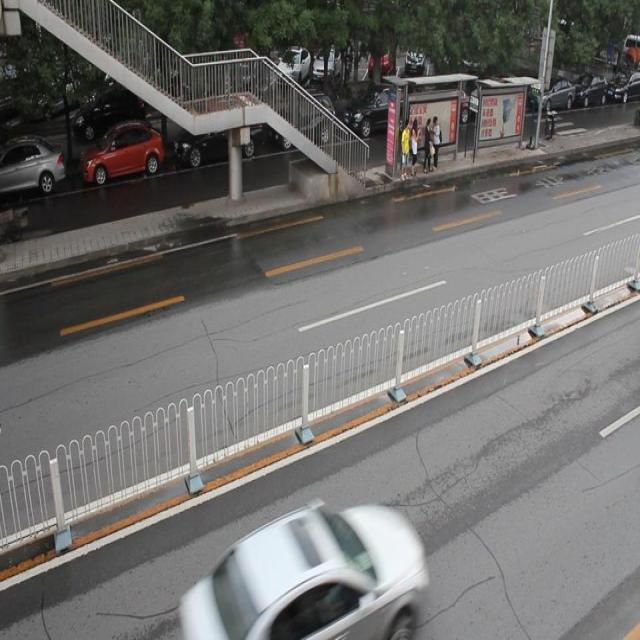car: (177, 495, 423, 640), (175, 101, 263, 164), (81, 121, 165, 186), (343, 81, 412, 138), (1, 137, 65, 197), (272, 92, 334, 150)
